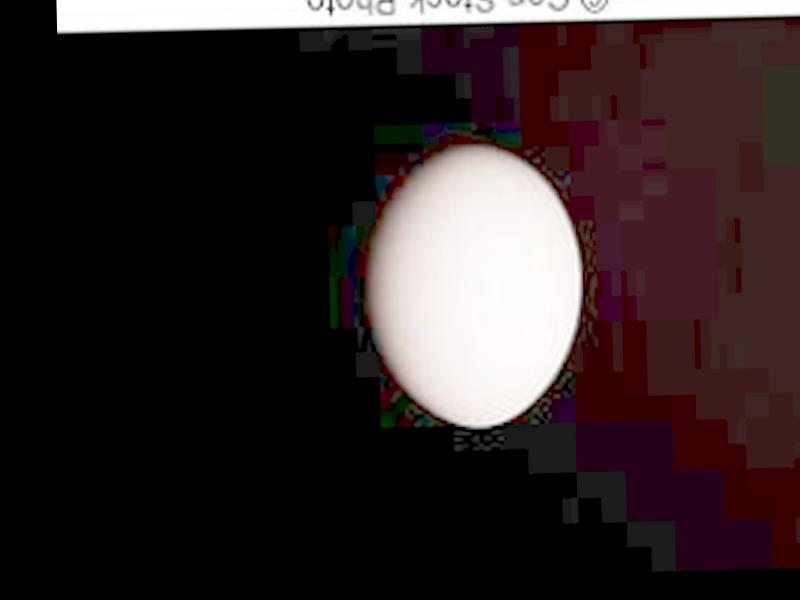Eggs: (368, 139, 584, 429)
